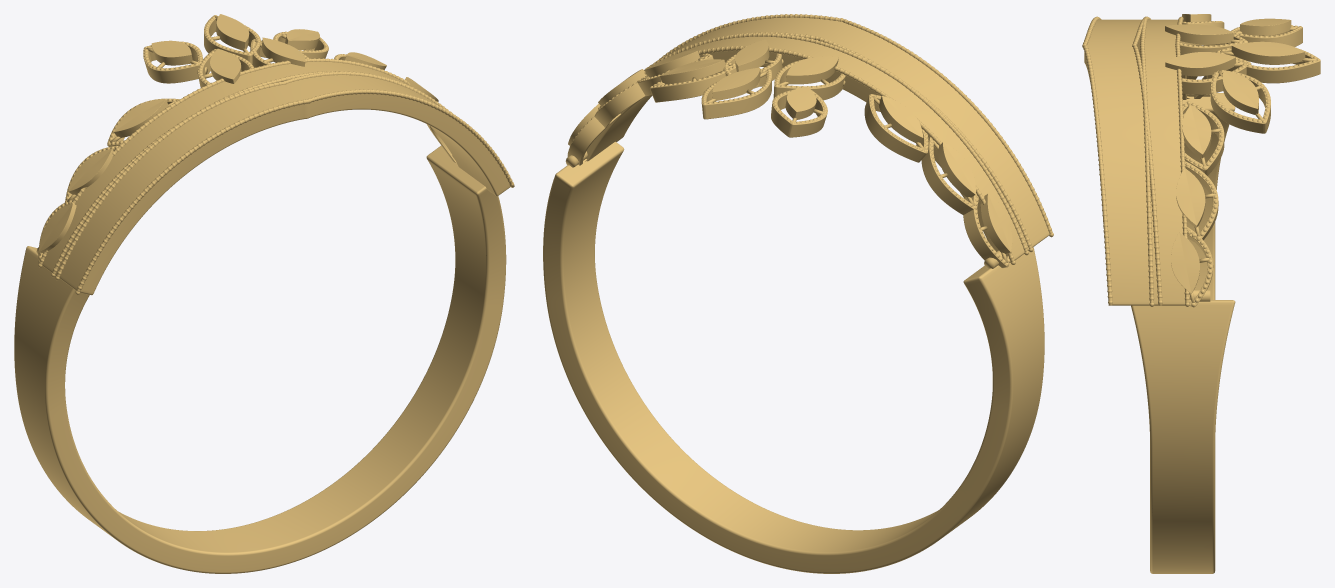
3 views of the same model, side by side, from view 1: azimuth 30°, elevation 25°; view 2: azimuth 150°, elevation 25°; view 3: azimuth 270°, elevation 25° (orthographic). The views are drawn at different scales.
Visible parts, largest first — view 1: Complete tapered shank | reverse geometry estimated, Shallow chevron front band, Milgrain | individually editable bead geometry, Split upper ribbon, Shallow chevron front band rolled rim, Central crown petal02 open gallery wall, Shoulder crown-1_0 raised platelet, Shoulder crown-1_1 raised platelet, Shoulder crown-1_2 raised platelet, Split upper ribbon rolled rim, Central crown petal03 raised platelet, Central crown petal02 raised platelet (+5 smaller); view 2: Complete tapered shank | reverse geometry estimated, Shallow chevron front band, Split upper ribbon, Milgrain | individually editable bead geometry, Central crown petal03 open gallery wall, Shoulder crown-1_0 open gallery wall, Shoulder crown-1_1 raised platelet, Shoulder crown-1_2 raised platelet, Central crown petal02 open gallery wall, Shoulder crown-1_0 raised platelet, Shallow chevron front band rolled rim, Central crown petal00 raised platelet (+13 smaller); view 3: Complete tapered shank | reverse geometry estimated, Shallow chevron front band, Split upper ribbon, Milgrain | individually editable bead geometry, Central crown petal03 raised platelet, Central crown petal01 raised platelet, Central crown petal03 open gallery wall, Central crown petal04 open gallery wall, Shoulder crown1_2 raised platelet, Shoulder crown1_1 raised platelet, Central crown petal04 raised platelet, Shoulder crown1_0 raised platelet (+12 smaller).
Boxes of the visible parts, x1,y1,x2,y2 form: Complete tapered shank | reverse geometry estimated: (14,145,506,573); Shallow chevron front band: (56,75,510,295); Milgrain | individually editable bead geometry: (38,15,513,294); Split upper ribbon: (42,61,473,275); Shallow chevron front band rolled rim: (76,90,514,291); Central crown petal02 open gallery wall: (143,41,202,83); Shoulder crown-1_0 raised platelet: (114,99,168,137); Shoulder crown-1_1 raised platelet: (68,149,113,195); Shoulder crown-1_2 raised platelet: (38,203,76,253); Split upper ribbon rolled rim: (56,71,449,277); Central crown petal03 raised platelet: (216,14,249,50); Central crown petal02 raised platelet: (151,40,192,65); Complete tapered shank | reverse geometry estimated: (543,141,1044,573); Shallow chevron front band: (604,17,1049,247); Split upper ribbon: (586,36,1028,262); Milgrain | individually editable bead geometry: (567,14,1053,266); Central crown petal03 open gallery wall: (701,69,771,119); Shoulder crown-1_0 open gallery wall: (864,94,928,162); Shoulder crown-1_1 raised platelet: (937,142,975,197); Shoulder crown-1_2 raised platelet: (980,194,1012,253); Central crown petal02 open gallery wall: (771,89,827,137); Shoulder crown-1_0 raised platelet: (879,96,923,142); Shallow chevron front band rolled rim: (657,14,1052,233); Central crown petal00 raised platelet: (786,56,838,84); Complete tapered shank | reverse geometry estimated: (1131,93,1235,573); Shallow chevron front band: (1084,19,1158,305); Split upper ribbon: (1144,19,1186,305); Milgrain | individually editable bead geometry: (1082,16,1320,306); Central crown petal03 raised platelet: (1231,41,1305,64); Central crown petal01 raised platelet: (1165,52,1235,76); Central crown petal03 open gallery wall: (1216,47,1320,83); Central crown petal04 open gallery wall: (1210,70,1270,133); Shoulder crown1_2 raised platelet: (1171,232,1199,293); Shoulder crown1_1 raised platelet: (1176,168,1205,227); Central crown petal04 raised platelet: (1222,70,1258,114); Shoulder crown1_0 raised platelet: (1182,105,1211,158).
Bounding box in the file's own units: 0.0197 × 0.0202 × 0.00861.
